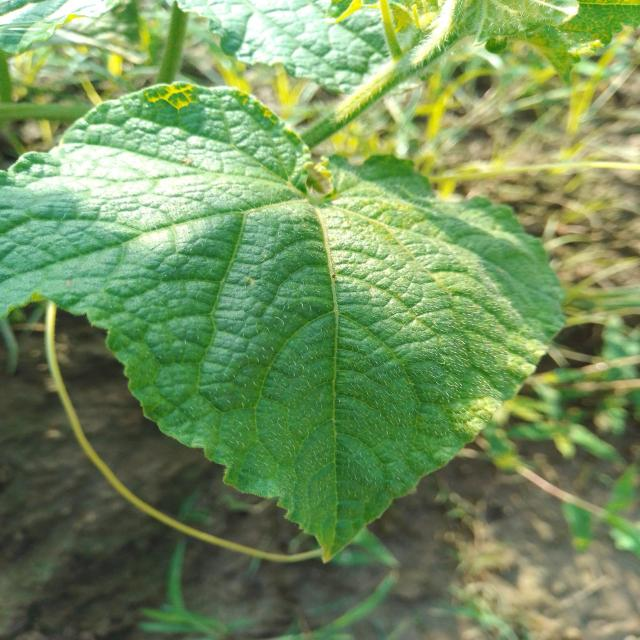cucumber_healthy: (0, 72, 573, 566)
